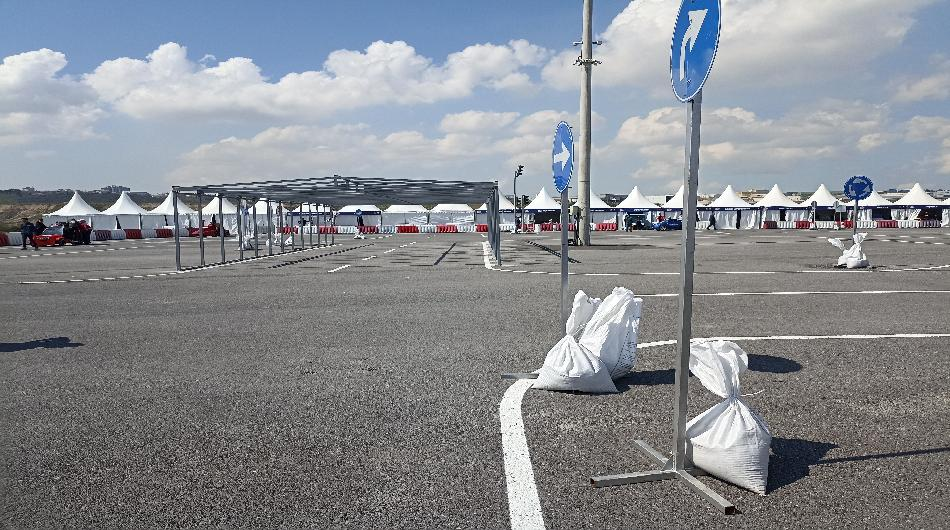ada: (843, 176, 872, 199)
saga_mecburi_1: (549, 120, 573, 192)
saga_mecburi_2: (665, 3, 727, 103)
